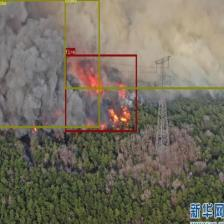fire: (65, 54, 137, 132)
smoke: (63, 0, 224, 88), (0, 0, 100, 127)
